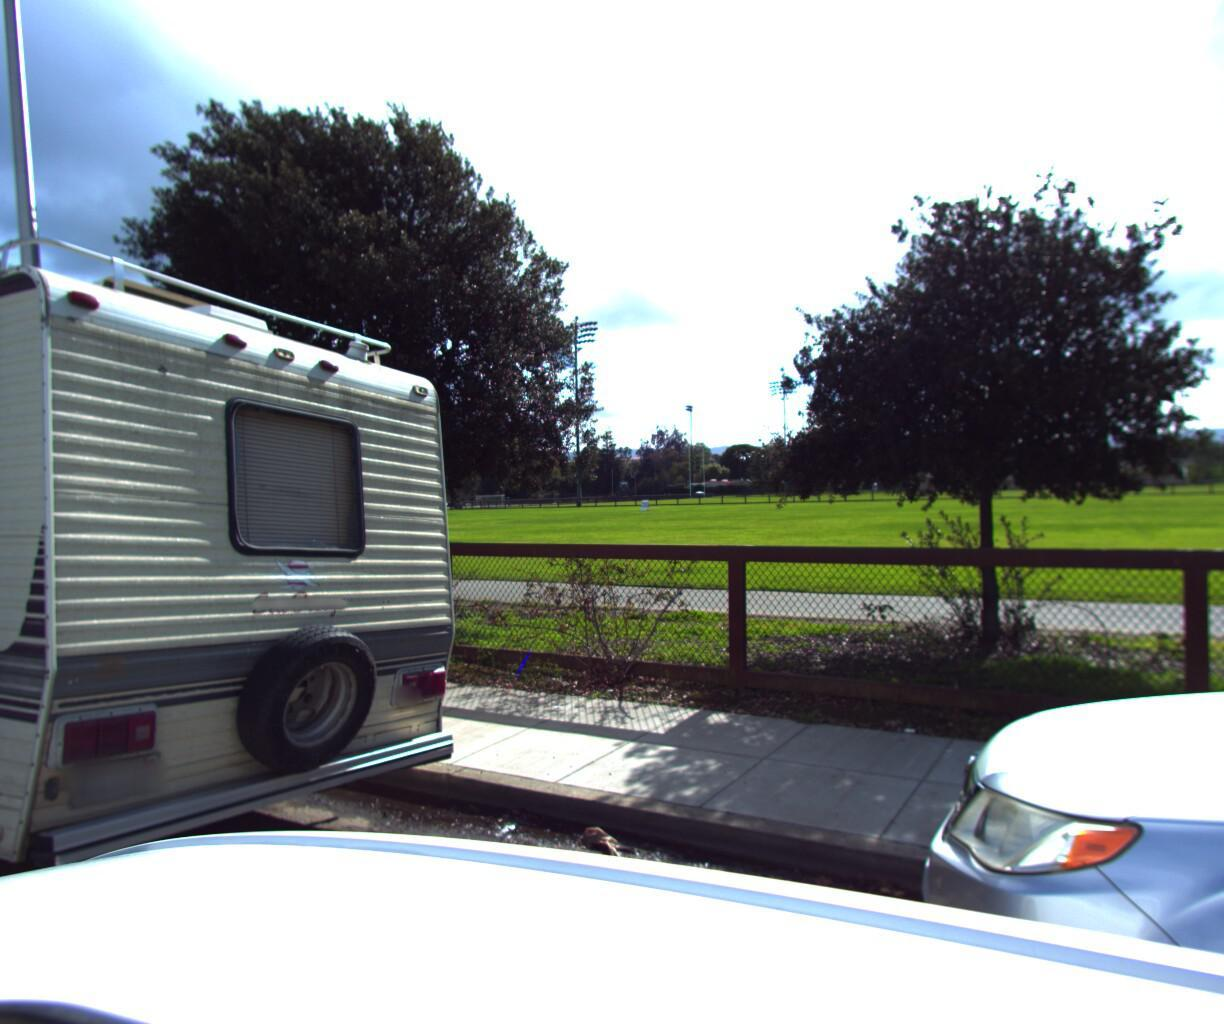other_vehicle: (0, 97, 535, 1024)
